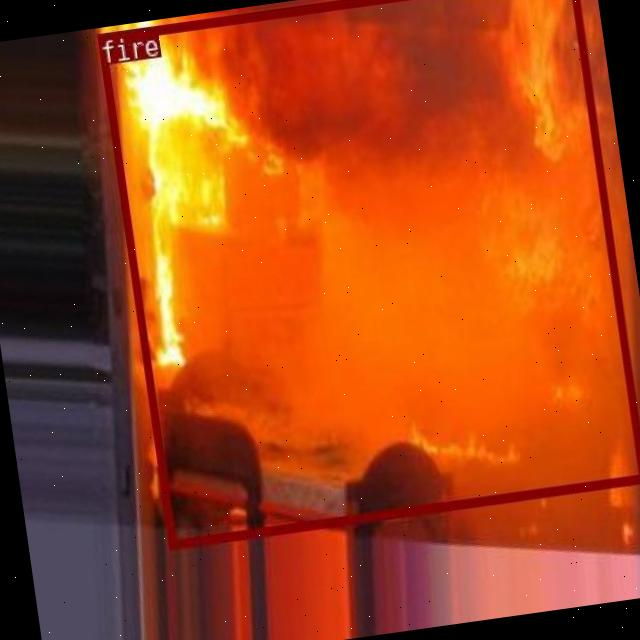fire: (96, 0, 640, 547)
